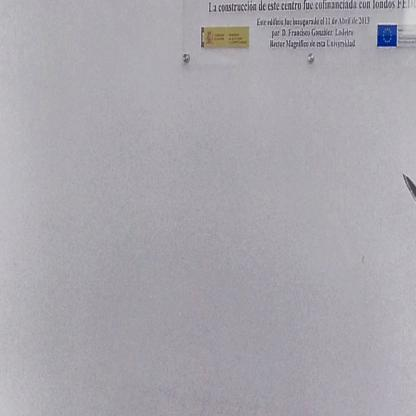knife: (398, 165, 416, 256)
